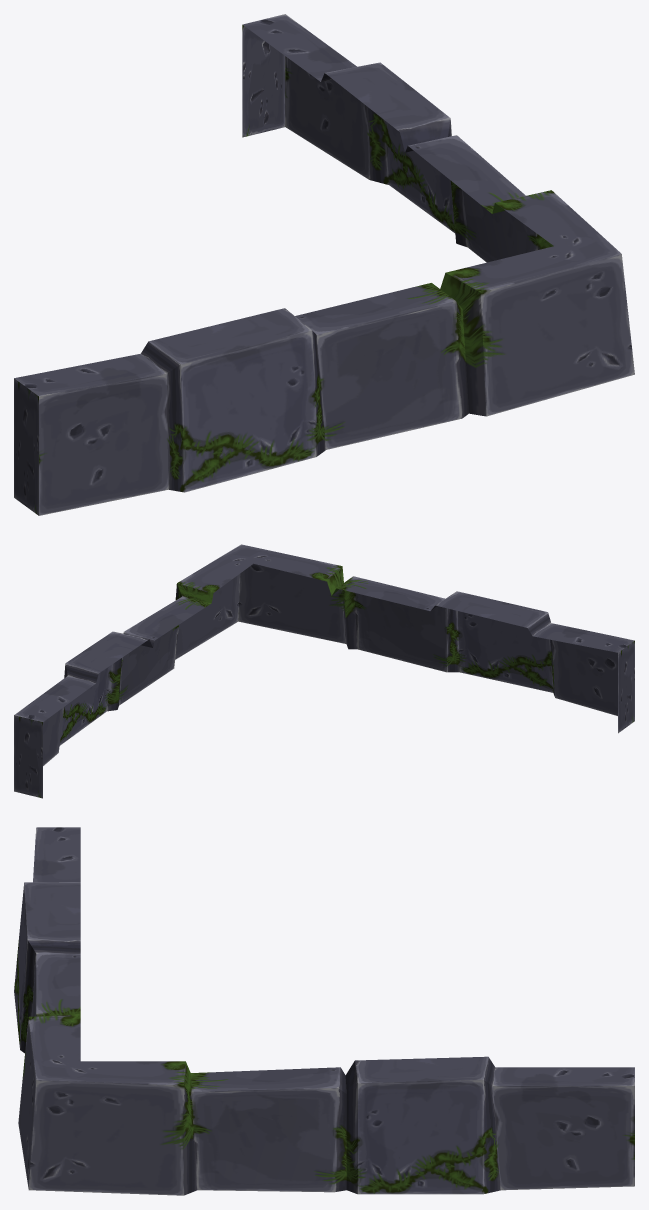
Rendered from MOD_WallTrim_01_E_corner_convex_2.fbx.
3 views of the same model, one above another, from view 1: azimuth 30°, elevation 25°; view 2: azimuth 150°, elevation 25°; view 3: azimuth 270°, elevation 25° (orthographic). The views are drawn at different scales.
Parts seen in each view (by area): view 1: MOD_WallTrim_01_E_corner_convex_2; view 2: MOD_WallTrim_01_E_corner_convex_2; view 3: MOD_WallTrim_01_E_corner_convex_2.
Boxes of the visible parts, x1,y1,x2,y2 form: MOD_WallTrim_01_E_corner_convex_2: (14, 14, 634, 515); MOD_WallTrim_01_E_corner_convex_2: (14, 544, 634, 798); MOD_WallTrim_01_E_corner_convex_2: (14, 827, 634, 1195).
Size of what is drawn, in the model's own units: 280 by 55.27 by 280.
